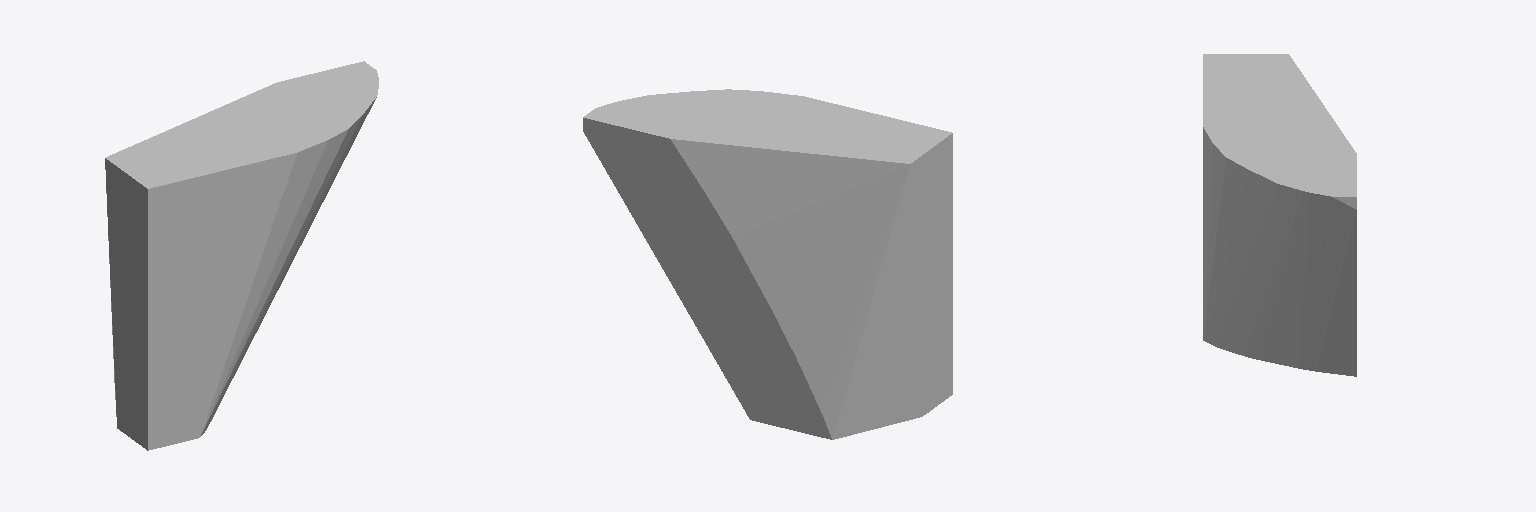
File: phantom-elastrat_collision_624.obj
The picture shows the model from 3 angles: view 1: azimuth 30°, elevation 25°; view 2: azimuth 150°, elevation 25°; view 3: azimuth 270°, elevation 25°; orthographic projection.
Bounding box in the file's own units: 0.0069 × 0.0059 × 0.0031.